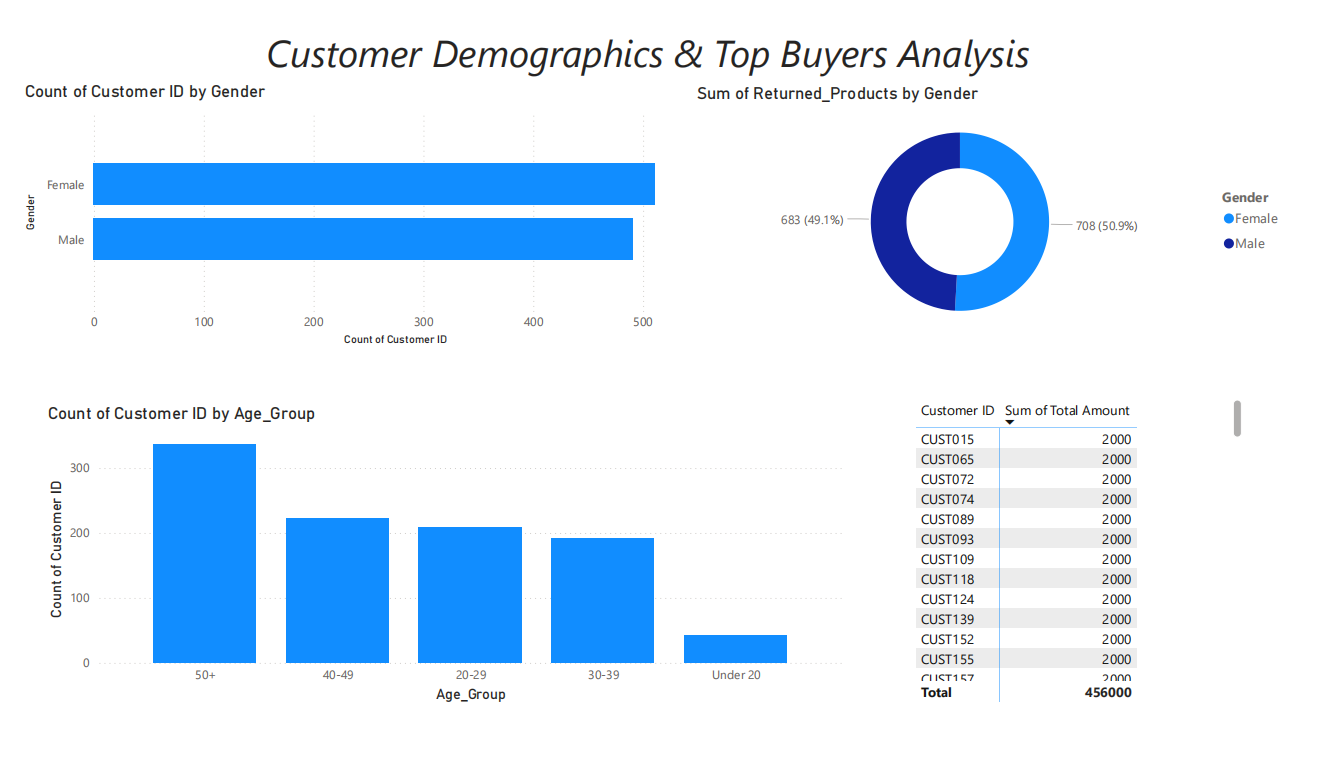

The dashboard page shown, as its layout file describes it:
{"tool":"powerbi","page":{"name":"Page 4","canvas":[1280,720],"ordinal":3},"visuals":[{"type":"textbox","box":[196.9,0,860.9,61.1],"z":0},{"type":"clusteredBarChart","fields":{"Category":["retails_sales_sql.Gender"],"Y":["CountNonNull(retails_sales_sql.Customer ID)"]},"box":[0,58.7,692.1,269],"z":1000},{"type":"columnChart","fields":{"Category":["retails_sales_sql.Age_Group"],"Y":["CountNonNull(retails_sales_sql.Customer ID)"]},"box":[23.2,380.3,803.4,303.3],"z":2000},{"type":"donutChart","fields":{"Category":["retails_sales_sql.Gender"],"Y":["Sum(retails_sales_sql.Returned_Products)"]},"box":[671.3,61.1,600.4,258],"z":3000},{"type":"pivotTable","fields":{"Rows":["retails_sales_sql.Customer ID"],"Values":["Sum(retails_sales_sql.Total Amount)"]},"box":[890.2,371.7,335.1,311.8],"z":4000}]}

Visuals, with their boxes in screenshot pixels (x1, y1, x2, y2), scaled from the page's 1280x720 canvas onto the 1322x763 screenshot:
textbox: region(203, 0, 1093, 65)
clusteredBarChart - retails_sales_sql.Gender x CountNonNull(retails_sales_sql.Customer ID): region(0, 62, 715, 347)
columnChart - retails_sales_sql.Age_Group x CountNonNull(retails_sales_sql.Customer ID): region(24, 403, 854, 724)
donutChart - retails_sales_sql.Gender x Sum(retails_sales_sql.Returned_Products): region(693, 65, 1313, 338)
pivotTable - retails_sales_sql.Customer ID x Sum(retails_sales_sql.Total Amount): region(919, 394, 1266, 724)
